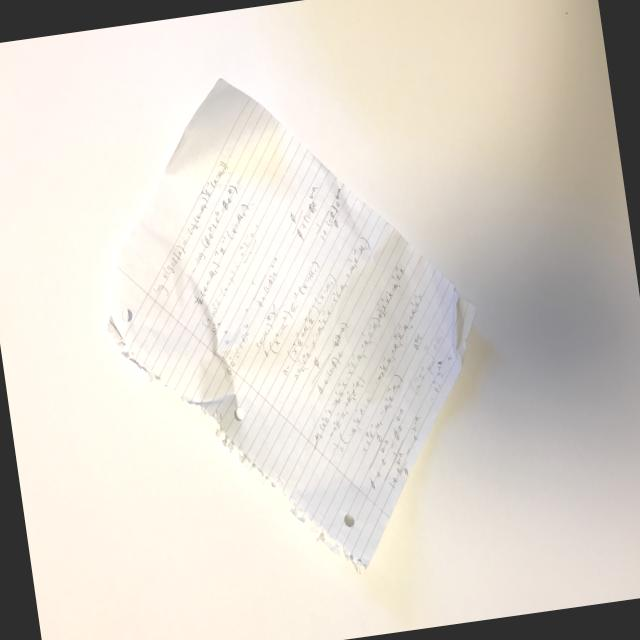Paper: (58, 2, 520, 615)
